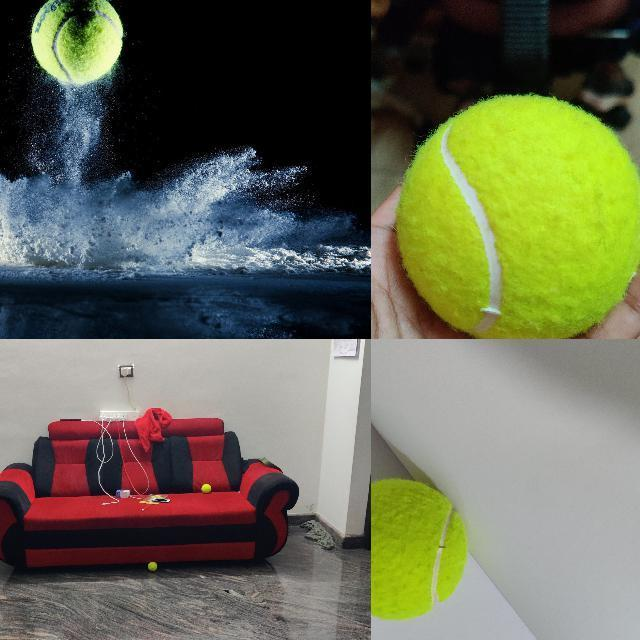tennis-ball: (396, 95, 639, 338), (371, 477, 469, 622), (30, 0, 125, 86), (147, 561, 157, 571), (201, 483, 211, 492)
